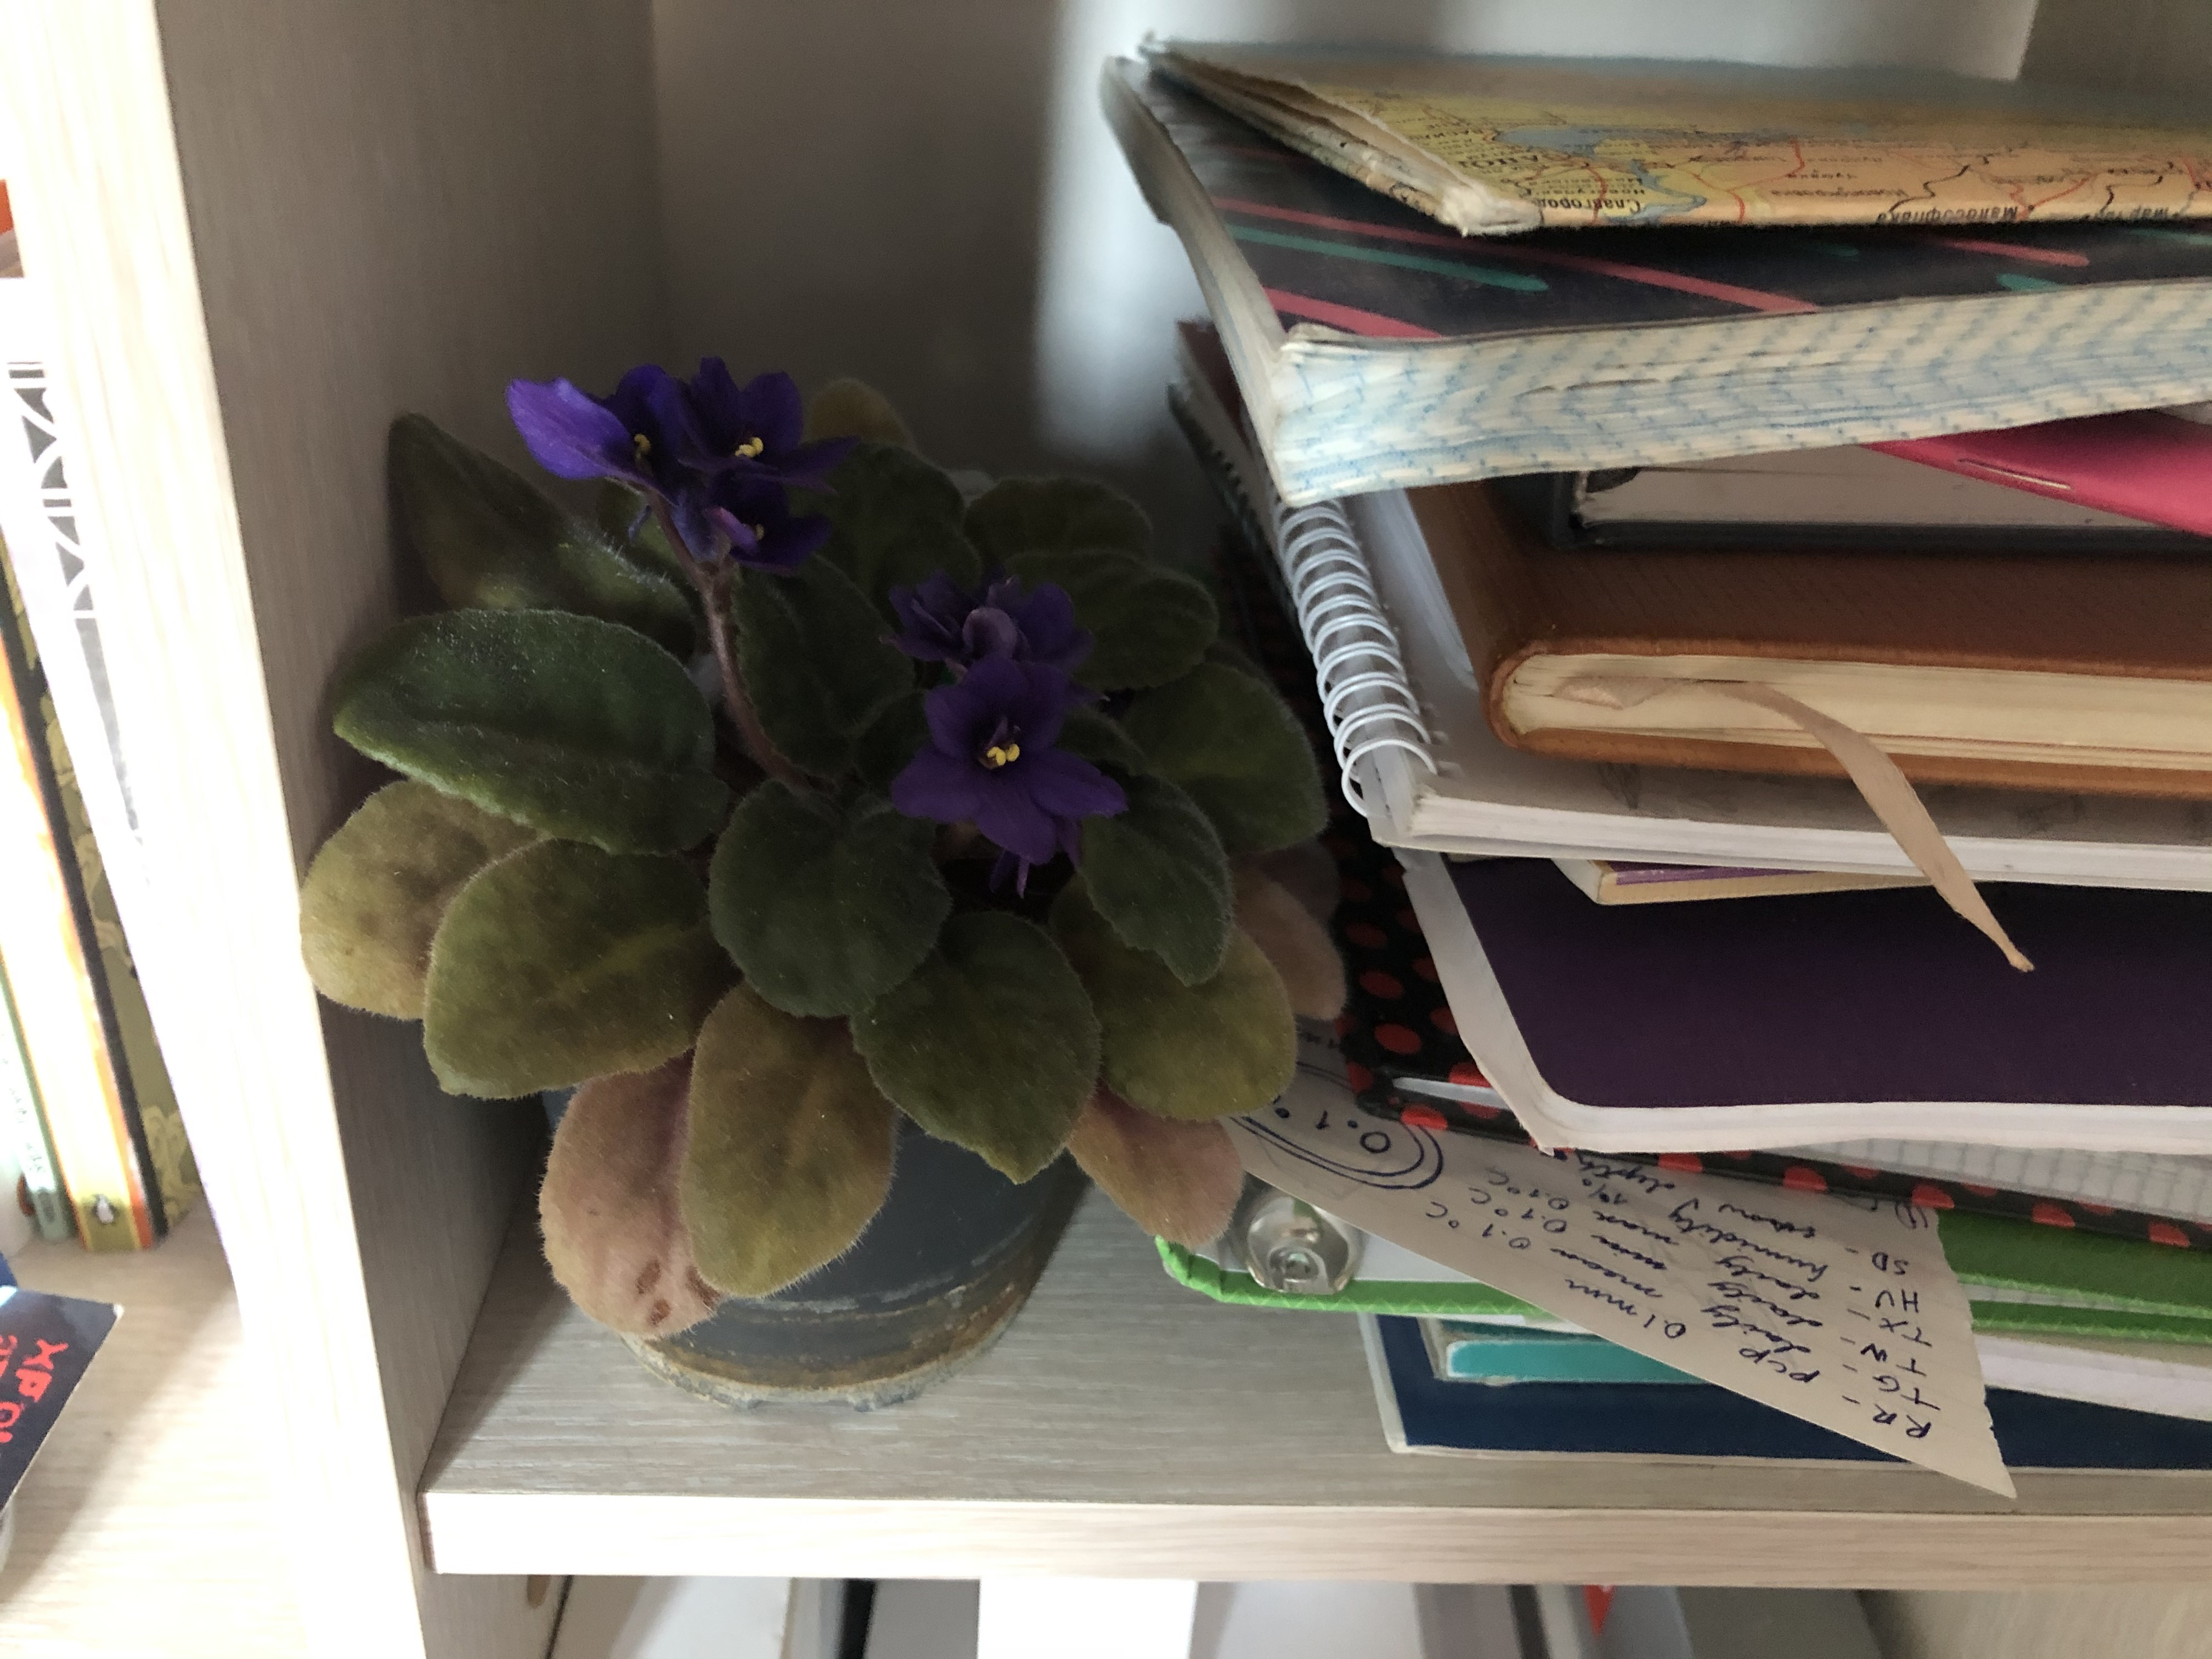ignore: (282, 295, 1388, 1371)
